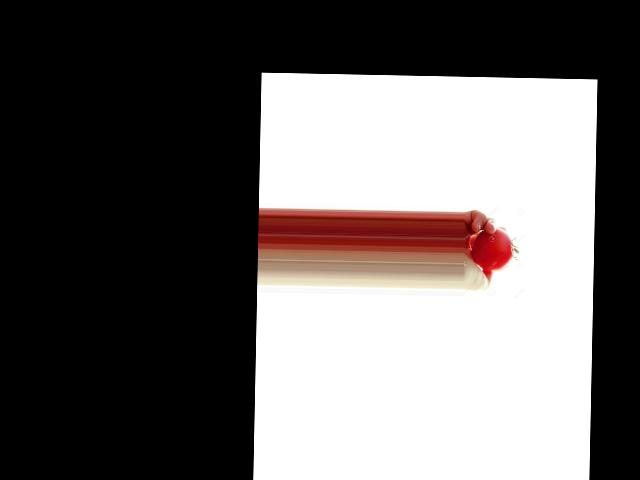tomato: (471, 226, 515, 271)
